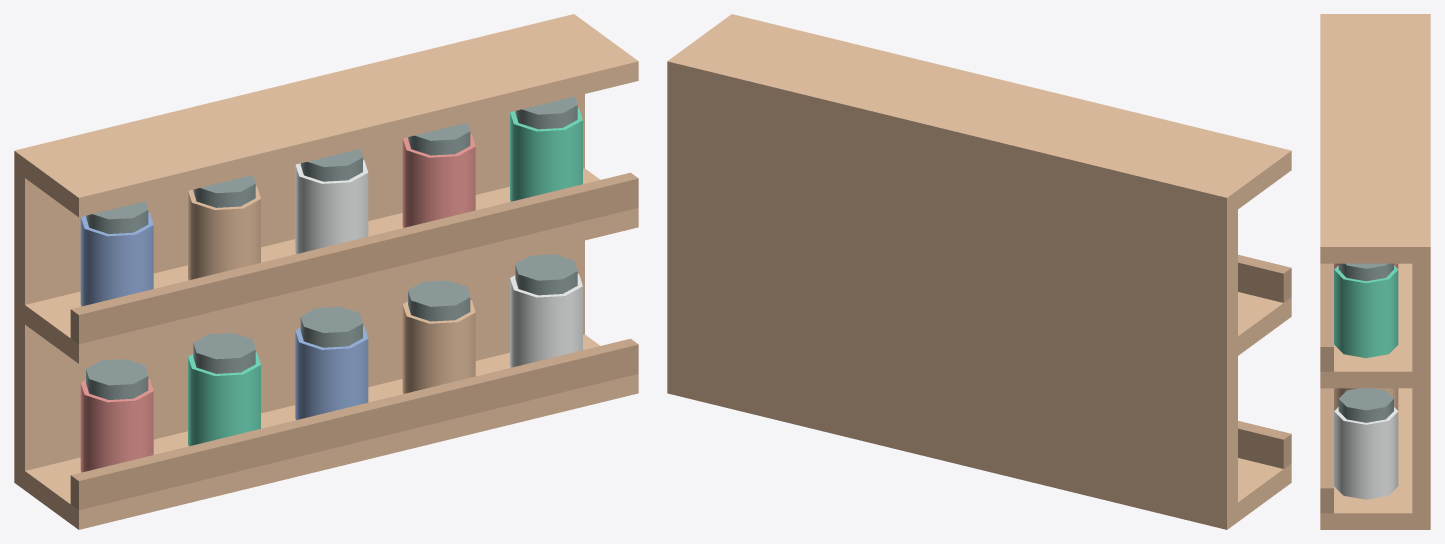
File: spiceRack.glb
3 views of the same model, side by side, from view 1: azimuth 30°, elevation 25°; view 2: azimuth 150°, elevation 25°; view 3: azimuth 270°, elevation 25° (orthographic). The views are drawn at different scales.
Visible parts, largest first — view 1: spiceRack; view 2: spiceRack; view 3: spiceRack.
Part boxes in pixels (left/top/right/bottom): spiceRack: left=14, top=14, right=638, bottom=529; spiceRack: left=667, top=14, right=1291, bottom=529; spiceRack: left=1320, top=14, right=1430, bottom=529.
Size of the model in its own units: 0.3 by 0.17 by 0.06.
